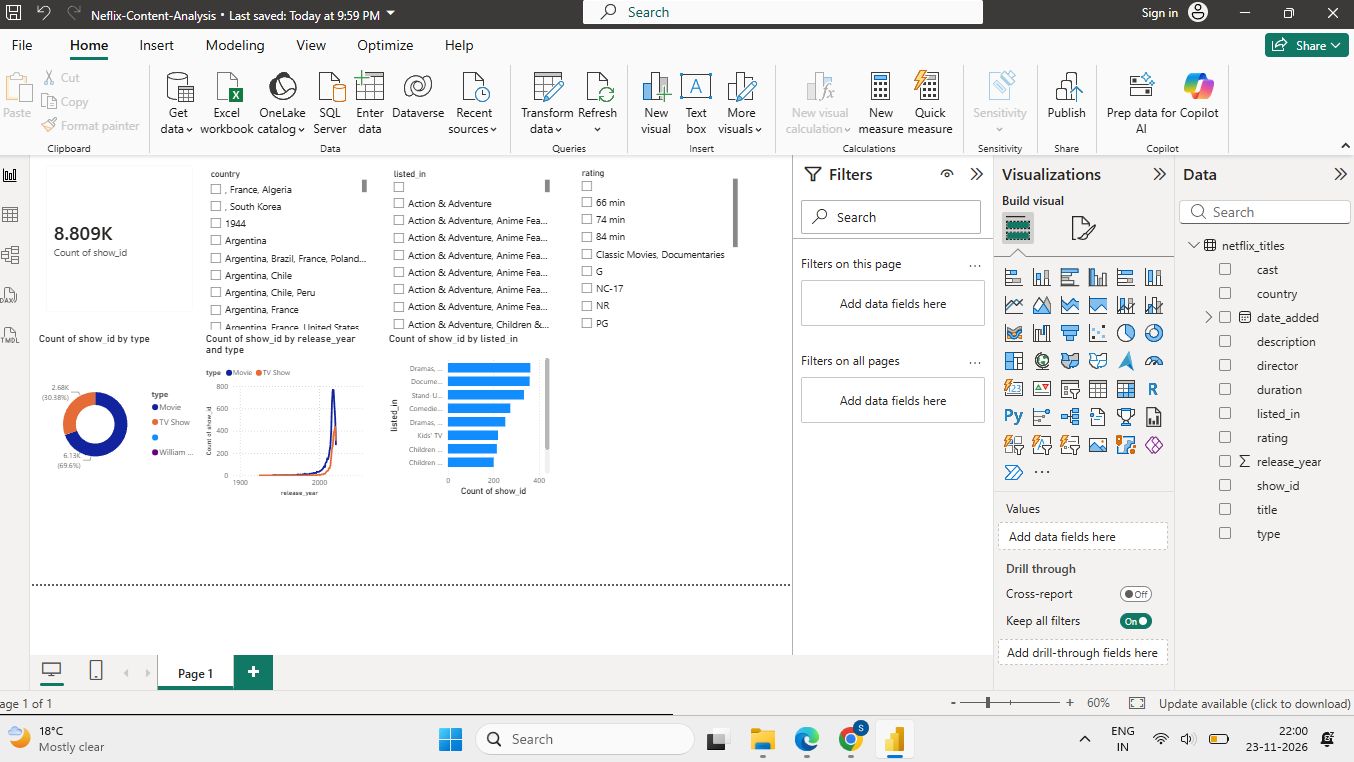

This screenshot's page, from the dashboard's own definition file:
{"tool":"powerbi","page":{"name":"Page 1","canvas":[1280,720],"ordinal":0},"visuals":[{"type":"cardVisual","fields":{"Data":["CountNonNull(netflix_titles.show_id)"]},"box":[10,0,280,280],"z":0},{"type":"slicer","fields":{"Values":["netflix_titles.country"]},"box":[290.6,18.5,280,280],"z":1000},{"type":"slicer","fields":{"Values":["netflix_titles.listed_in"]},"box":[598,18.5,280,280],"z":2000},{"type":"slicer","fields":{"Values":["netflix_titles.rating"]},"box":[913.8,16.8,280,280],"z":3000},{"type":"donutChart","fields":{"Category":["netflix_titles.type"],"Y":["CountNonNull(netflix_titles.show_id)"]},"box":[10,298,280,280],"z":4000},{"type":"lineChart","fields":{"Category":["netflix_titles.release_year"],"Y":["CountNonNull(netflix_titles.show_id)"],"Series":["netflix_titles.type"]},"box":[291,298,280,280],"z":4001},{"type":"clusteredBarChart","fields":{"Category":["netflix_titles.listed_in"],"Y":["CountNonNull(netflix_titles.show_id)"]},"box":[598,298,280,280],"z":4002}]}

Visuals, with their boxes on the page's 1280x720 design canvas (x1, y1, x2, y2). These are canvas units, not pixel positions in the 1354x762 screenshot, which may show the page scaled, cropped or inside an application window:
cardVisual - CountNonNull(netflix_titles.show_id): region(10, 0, 290, 280)
slicer - netflix_titles.country: region(291, 18, 571, 298)
slicer - netflix_titles.listed_in: region(598, 18, 878, 298)
slicer - netflix_titles.rating: region(914, 17, 1194, 297)
donutChart - netflix_titles.type x CountNonNull(netflix_titles.show_id): region(10, 298, 290, 578)
lineChart - netflix_titles.release_year x CountNonNull(netflix_titles.show_id): region(291, 298, 571, 578)
clusteredBarChart - netflix_titles.listed_in x CountNonNull(netflix_titles.show_id): region(598, 298, 878, 578)
